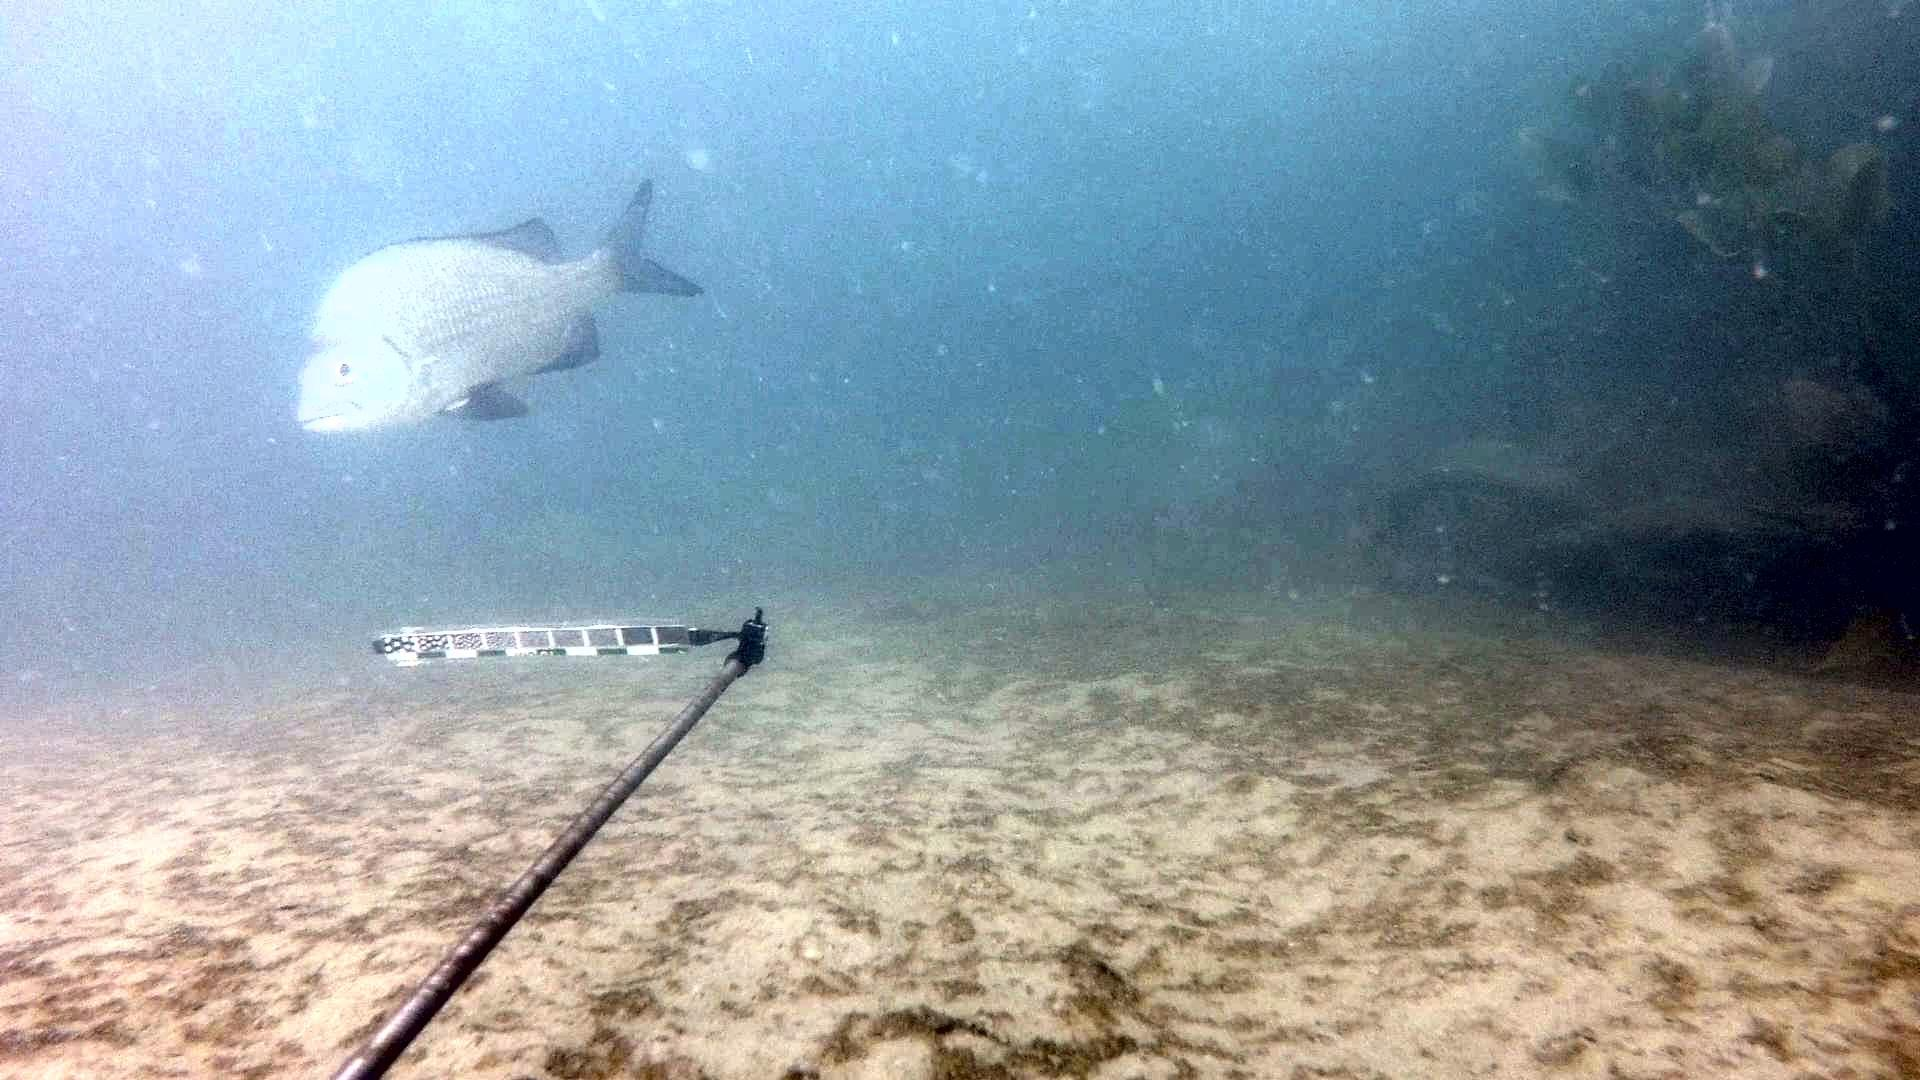acanthopagrus palmaris: (291, 169, 714, 450)
